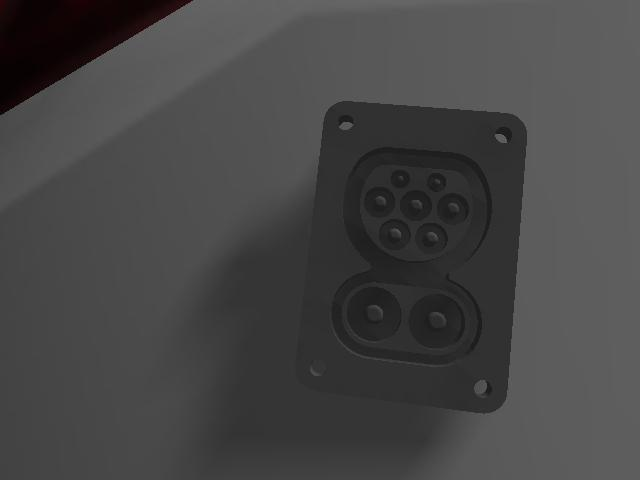EV-socket: (295, 101, 527, 412)
